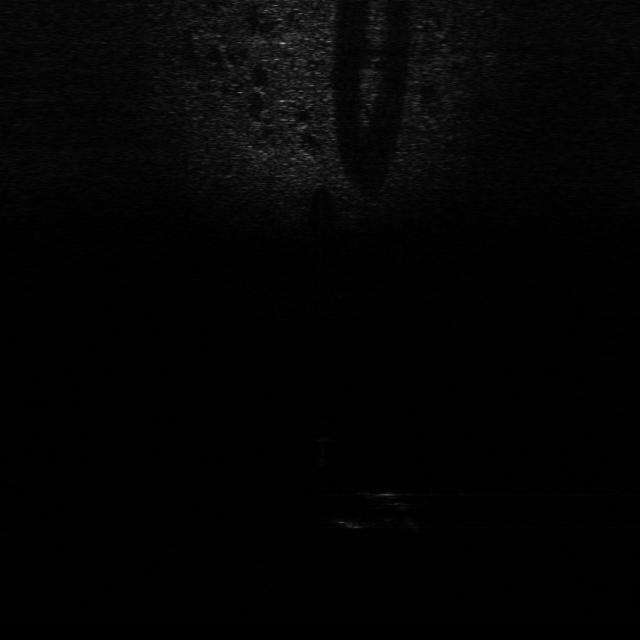tyre: (333, 486, 422, 534)
